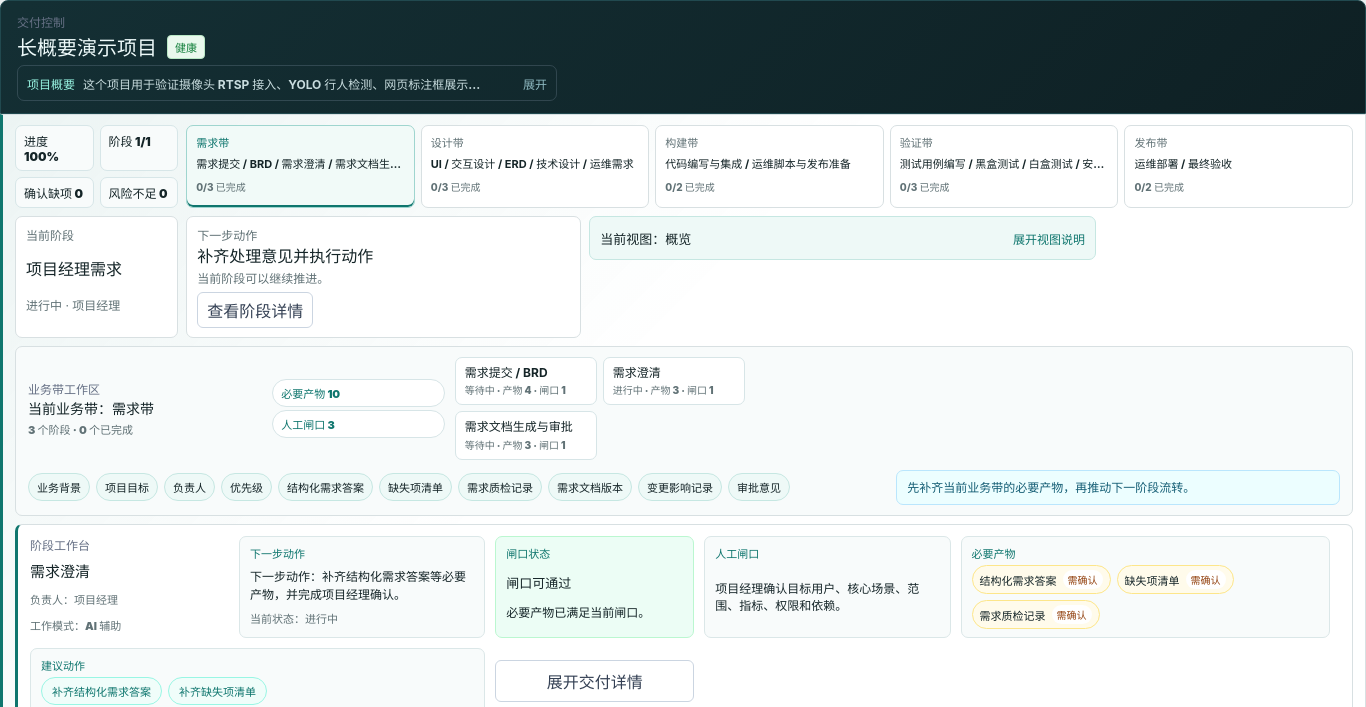
Test case: ProjectWorkspace › collapses long project summaries in the workspace header
Expected: the text "这个项目用于验证摄像头 RTSP 接入、YOLO 行人检测、网页标注框展示..." is shown, [83,74,515,92]
Expected: the text "这个项目用于验证摄像头 RTSP 接入、YOLO 行人检测、网页标注框展示、误检率统计、测试证据归档和运维交接要求，完整说明会比较长，默认不应该把项目首屏撑高。" is not shown
Click the text "项目概要".
click(51, 83)  # box [27,74,75,92]
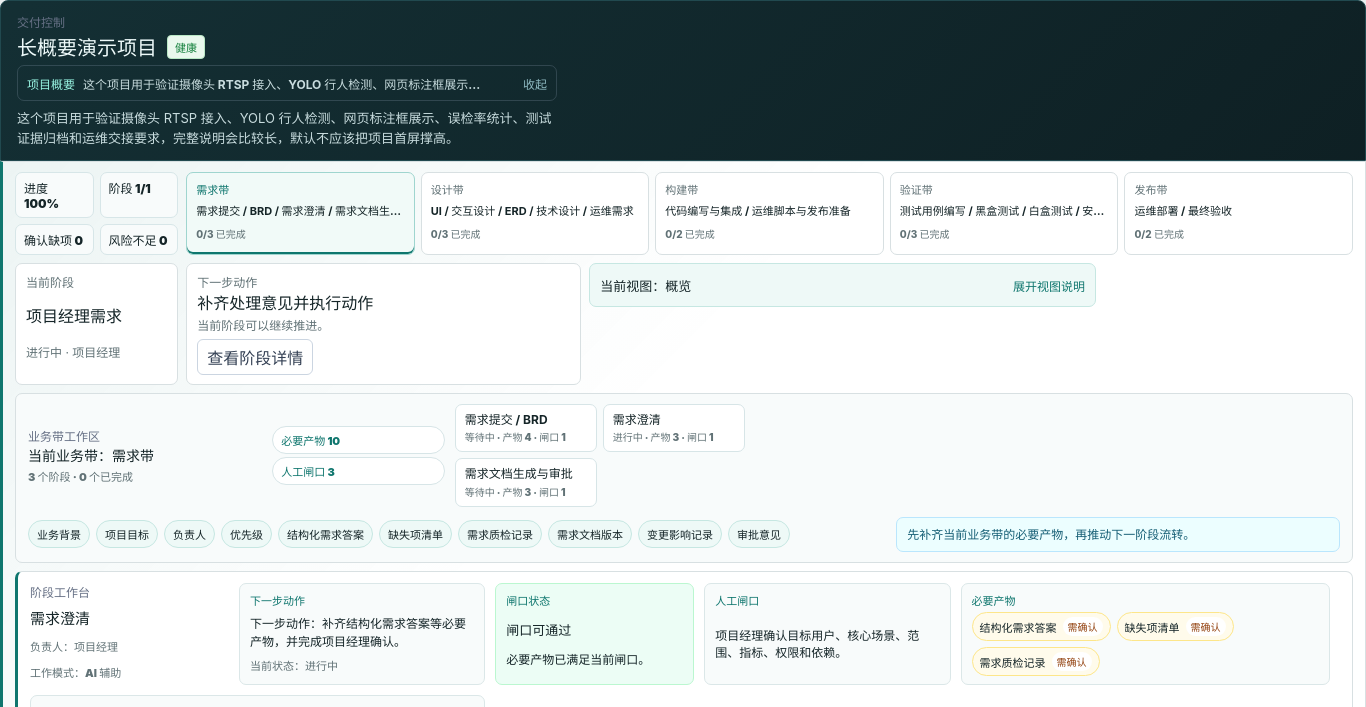
Result: the text "这个项目用于验证摄像头 RTSP 接入、YOLO 行人检测、网页标注框展示、误检率统计、测试证据归档和运维交接要求，完整说明会比较长，默认不应该把项目首屏撑高。" is shown at [17,109,557,148]
